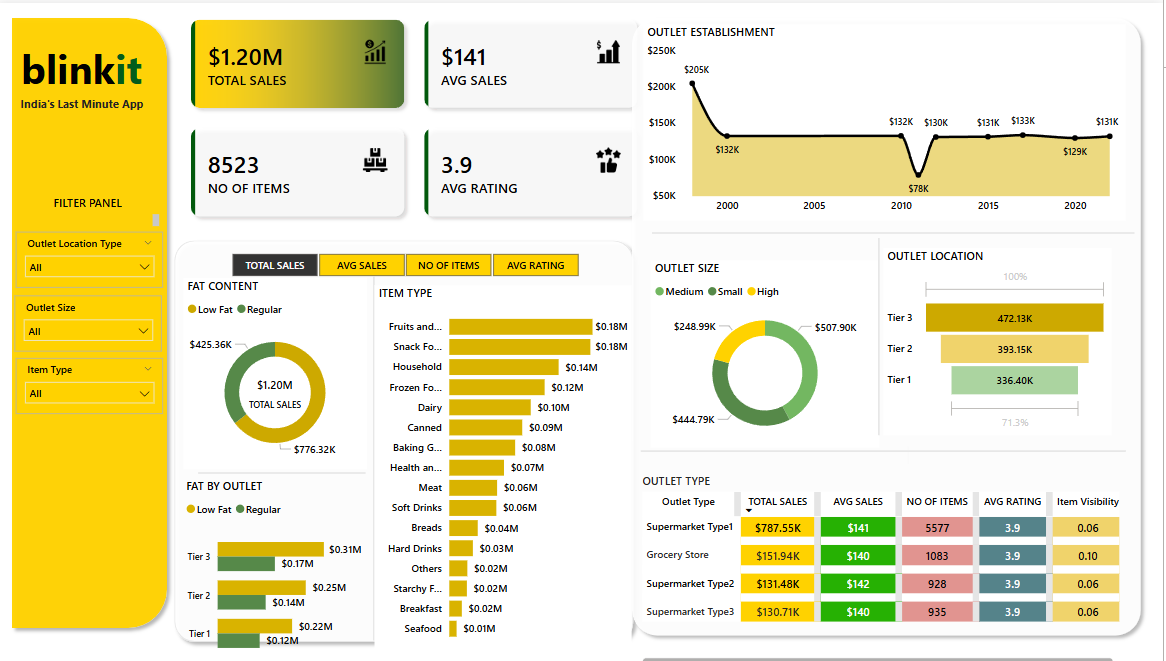

What the dashboard file says about the page in this screenshot:
{"tool":"powerbi","page":{"name":"Page 1","canvas":[1400,800],"ordinal":0},"visuals":[{"type":"shape","box":[9,9,204.1,750.4],"z":0},{"type":"textbox","box":[18,40.5,166.6,82.5],"z":1000},{"type":"textbox","box":[9,106.6,186.1,31.5],"z":2000},{"type":"cardVisual","fields":{"Data":["blinkit_data.TOTAL SALES","blinkit_data.AVG SALES","blinkit_data.NO OF ITEMS","blinkit_data.AVG RATING"]},"box":[216.1,3,570.3,270.2],"z":3000},{"type":"shape","box":[204.1,276.2,568.8,499.8],"z":4000},{"type":"donutChart","title":"FAT CONTENT","fields":{"Y":["blinkit_data.TOTAL SALES"],"Category":["blinkit_data.Item Fat Content"]},"box":[223.6,330.2,220.6,229.6],"z":5000},{"type":"slicer","fields":{"Values":["Metrics.Metrics"]},"box":[256.6,294.2,465.3,40.5],"z":6000},{"type":"cardVisual","fields":{"Data":["blinkit_data.TOTAL SALES"]},"box":[280.7,432.2,106.6,61.5],"z":7000},{"type":"clusteredBarChart","title":"FAT BY OUTLET","fields":{"Y":["blinkit_data.TOTAL SALES"],"Category":["blinkit_data.Outlet Location Type"],"Series":["blinkit_data.Item Fat Content"]},"box":[222.1,570.3,220.6,229.6],"z":8000},{"type":"shape","box":[993.6,532.8,201.1,21],"z":9000},{"type":"shape","box":[432.2,328.7,40.5,436.8],"z":10000},{"type":"barChart","title":"ITEM TYPE","fields":{"Y":["blinkit_data.TOTAL SALES"],"Category":["blinkit_data.Item Type"]},"box":[453.3,339.2,309.2,436.8],"z":11000},{"type":"shape","box":[753.4,9,628.9,759.4],"z":12000},{"type":"lineChart","title":"OUTLET ESTABLISHMENT","fields":{"Category":["blinkit_data.Outlet Establishment Year"],"Y":["blinkit_data.TOTAL SALES"]},"box":[775.9,25.5,579.3,235.6],"z":13000},{"type":"shape","box":[786.5,265.7,579.3,21],"z":14000},{"type":"donutChart","title":"OUTLET SIZE","fields":{"Y":["blinkit_data.TOTAL SALES"],"Category":["blinkit_data.Outlet Size"]},"box":[785,309.2,274.7,225.1],"z":15000},{"type":"shape","box":[241.1,553.3,201.1,21],"z":16000},{"type":"shape","box":[1038.6,282.2,40.5,237.1],"z":17000},{"type":"funnel","title":"OUTLET LOCATION","fields":{"Category":["blinkit_data.Outlet Location Type"],"Y":["Sum(blinkit_data.Sales)"]},"box":[1064.1,294.2,274.7,225.1],"z":18000},{"type":"shape","box":[772.9,532.8,582.3,10.5],"z":19000},{"type":"pivotTable","title":"OUTLET TYPE","fields":{"Rows":["blinkit_data.Outlet Type"],"Values":["blinkit_data.TOTAL SALES","blinkit_data.AVG SALES","blinkit_data.NO OF ITEMS","blinkit_data.AVG RATING","Avg(blinkit_data.Item Visibility)"]},"box":[769.9,564.3,582.3,235.6],"z":20000},{"type":"slicer","fields":{"Values":["blinkit_data.Outlet Location Type"]},"box":[22.5,274.7,177.1,67.5],"z":21000},{"type":"slicer","fields":{"Values":["blinkit_data.Outlet Size"]},"box":[21,351.2,177.1,67.5],"z":22000},{"type":"slicer","fields":{"Values":["blinkit_data.Item Type"]},"box":[22.5,426.2,177.1,67.5],"z":23000},{"type":"textbox","title":"FILTER PANEL","box":[18,231.1,181.6,42],"z":24000}]}

Visuals, with their boxes in screenshot pixels (x1, y1, x2, y2), scaled from the page's 1400x800 canvas onto the 1166x661 screenshot:
shape: Rect(7, 7, 177, 627)
textbox: Rect(15, 33, 154, 102)
textbox: Rect(7, 88, 162, 114)
cardVisual - blinkit_data.TOTAL SALES x blinkit_data.AVG SALES: Rect(180, 2, 655, 226)
shape: Rect(170, 228, 644, 641)
"FAT CONTENT" donutChart: Rect(186, 273, 370, 463)
slicer - Metrics.Metrics: Rect(214, 243, 601, 277)
cardVisual - blinkit_data.TOTAL SALES: Rect(234, 357, 323, 408)
"FAT BY OUTLET" clusteredBarChart: Rect(185, 471, 369, 660)
shape: Rect(828, 440, 995, 458)
shape: Rect(360, 272, 394, 632)
"ITEM TYPE" barChart: Rect(378, 280, 635, 641)
shape: Rect(627, 7, 1151, 635)
"OUTLET ESTABLISHMENT" lineChart: Rect(646, 21, 1129, 216)
shape: Rect(655, 220, 1138, 237)
"OUTLET SIZE" donutChart: Rect(654, 255, 883, 441)
shape: Rect(201, 457, 368, 475)
shape: Rect(865, 233, 899, 429)
"OUTLET LOCATION" funnel: Rect(886, 243, 1115, 429)
shape: Rect(644, 440, 1129, 449)
"OUTLET TYPE" pivotTable: Rect(641, 466, 1126, 660)
slicer - blinkit_data.Outlet Location Type: Rect(19, 227, 166, 283)
slicer - blinkit_data.Outlet Size: Rect(17, 290, 165, 346)
slicer - blinkit_data.Item Type: Rect(19, 352, 166, 408)
"FILTER PANEL" textbox: Rect(15, 191, 166, 226)
